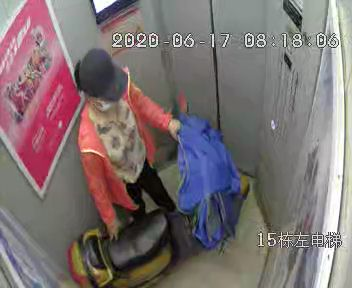Electric-bicycle: (73, 95, 246, 286)
